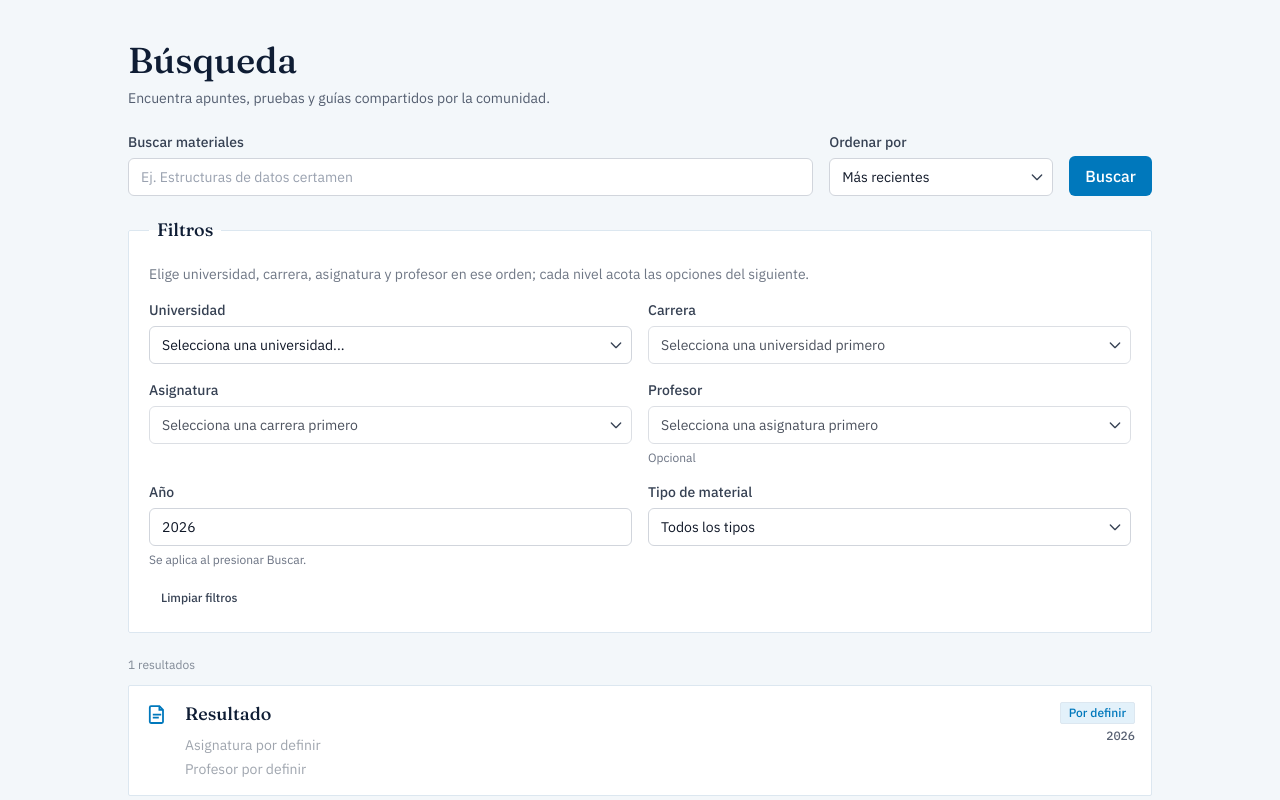
Test case: SearchPage: filtros académicos › solo con filtros y sin texto muestra el estado inicial al limpiarlos
expect the heading "Resultado" is shown: met, box [185,702,271,725]
Click the button "Limpiar filtros". click: (199, 598)
box: [149,584,249,612]
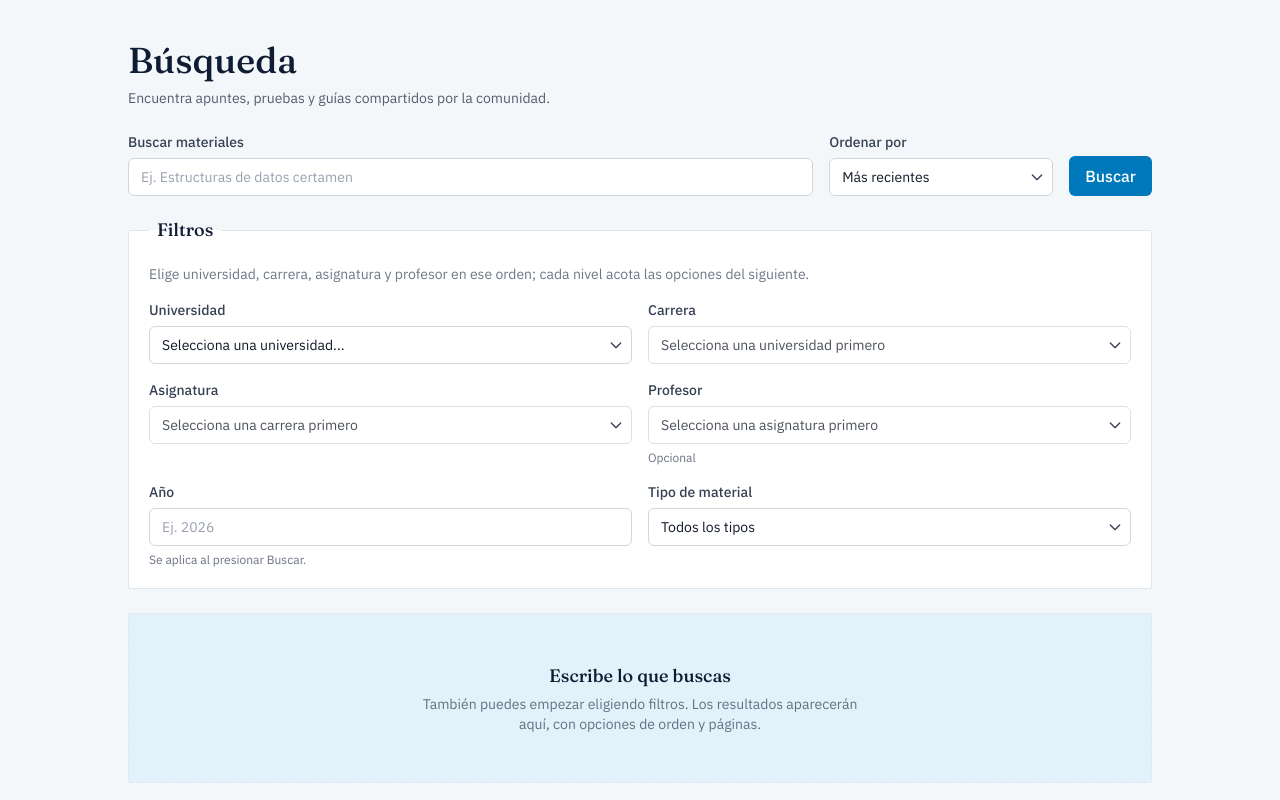
expect the text "Escribe lo que buscas" is shown: met, box [549,664,731,687]
